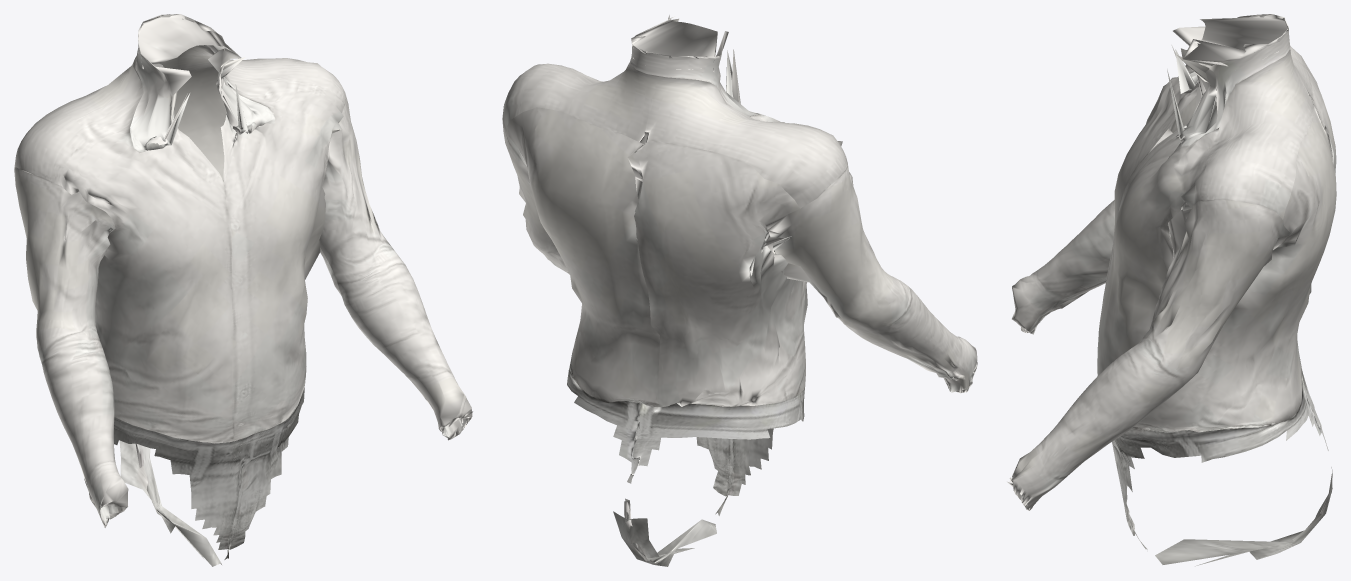
File: shirt-white.glb
3 views of the same model, side by side, from view 1: azimuth 30°, elevation 25°; view 2: azimuth 150°, elevation 25°; view 3: azimuth 270°, elevation 25° (orthographic). The views are drawn at different scales.
Parts seen in each view (by area): view 1: shirt-white; view 2: shirt-white; view 3: shirt-white.
Part boxes in pixels (x1,y1,x2,y2): shirt-white: (14, 14, 472, 566); shirt-white: (502, 15, 977, 566); shirt-white: (1007, 14, 1336, 566).
Bounding box in the file's own units: 0.6161 × 0.8113 × 0.4489.
1 material, 1 textured.
